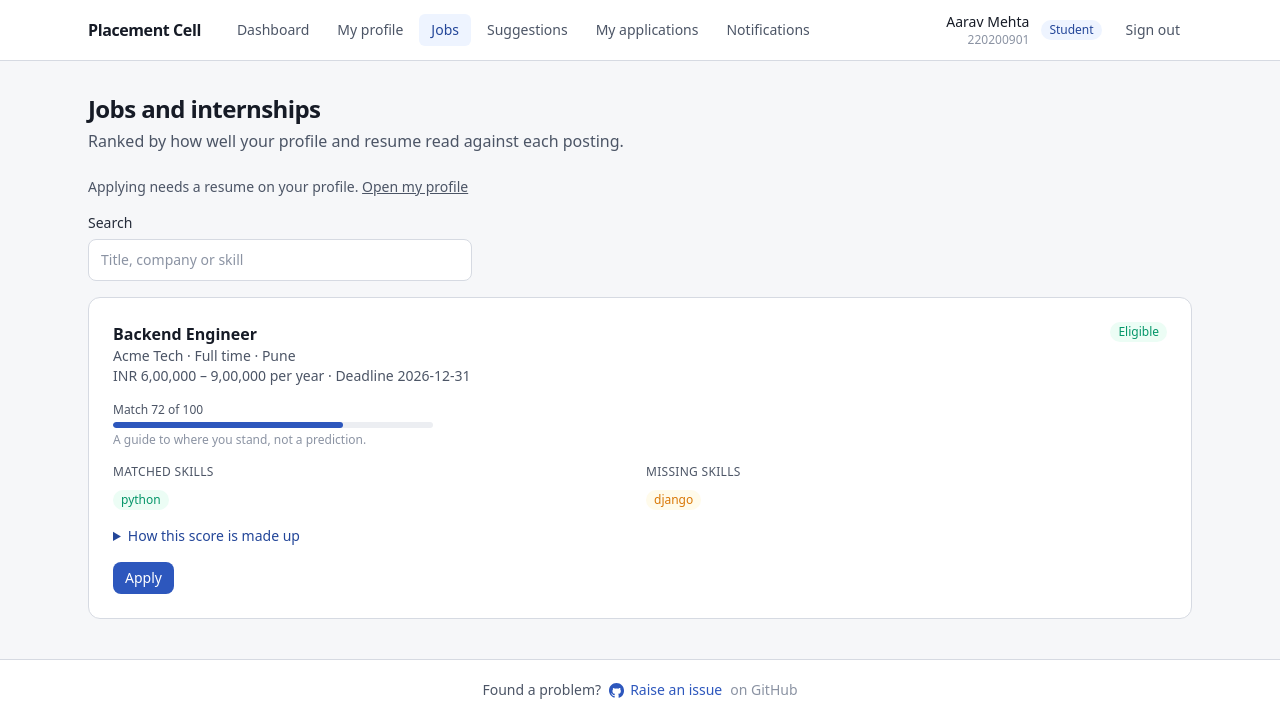
Test: student jobs board › applies and then shows the application status instead of the button
Click the button "Apply" at (143, 578), box [113, 562, 174, 594]
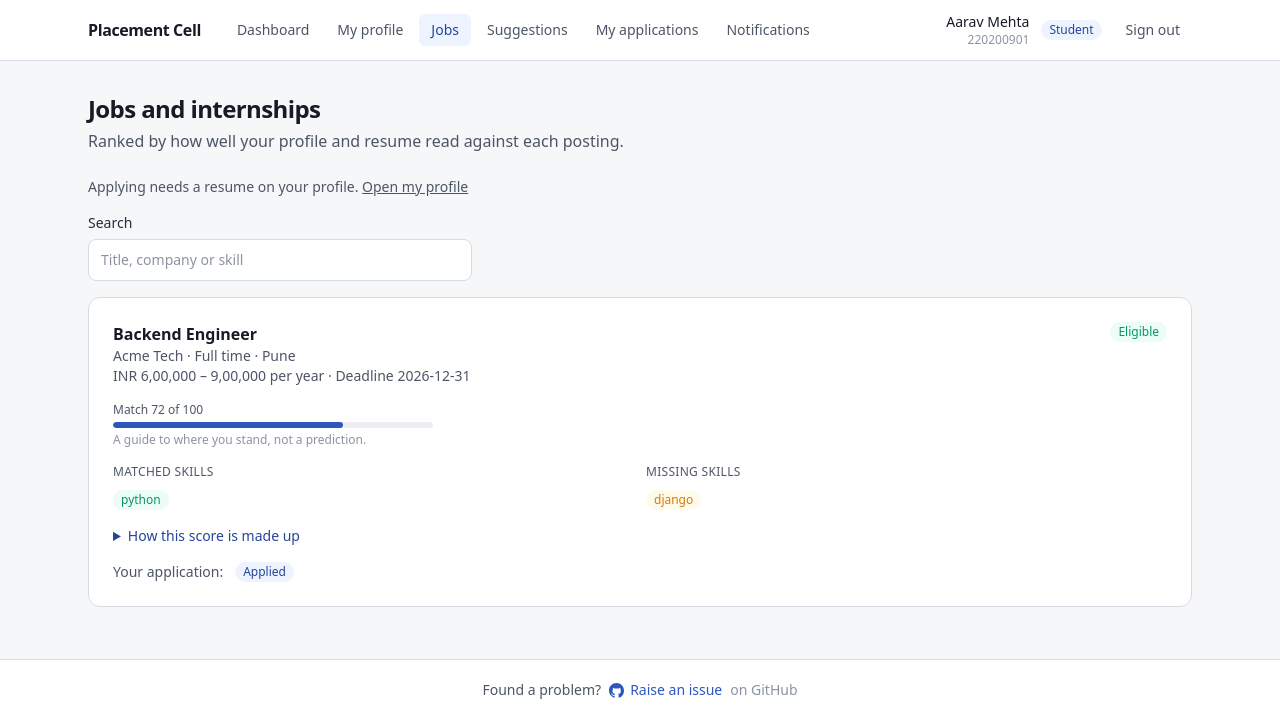
Now the text "Your application:" is shown, box [113, 562, 223, 582]
Now the text "Applied" is shown, box [235, 562, 294, 582]
